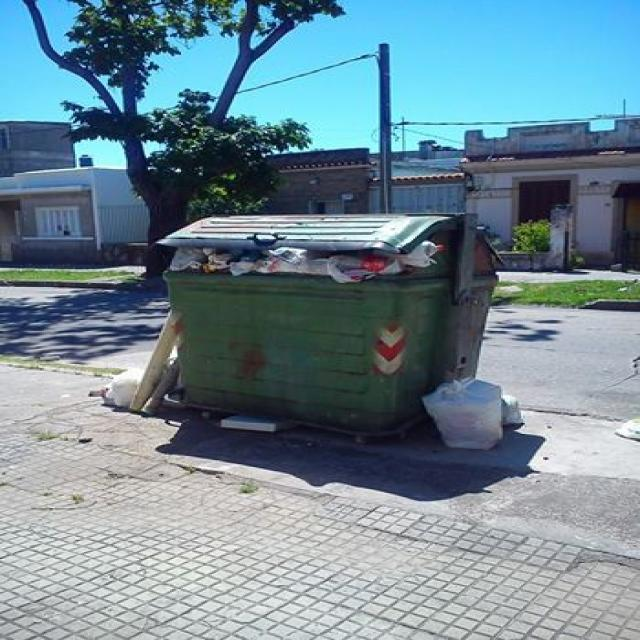garbage: (162, 240, 440, 278), (418, 378, 526, 454), (85, 357, 145, 415)
